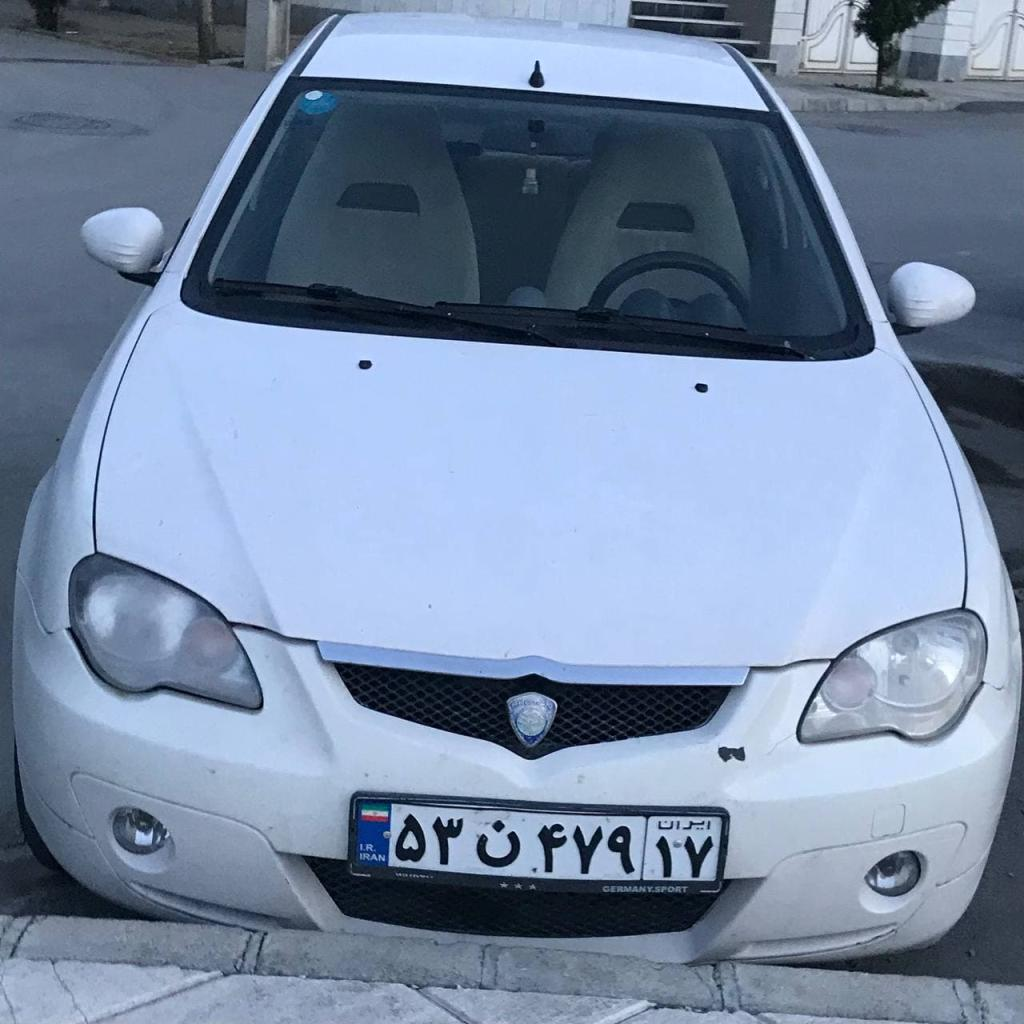Plates: (355, 799, 722, 884)
